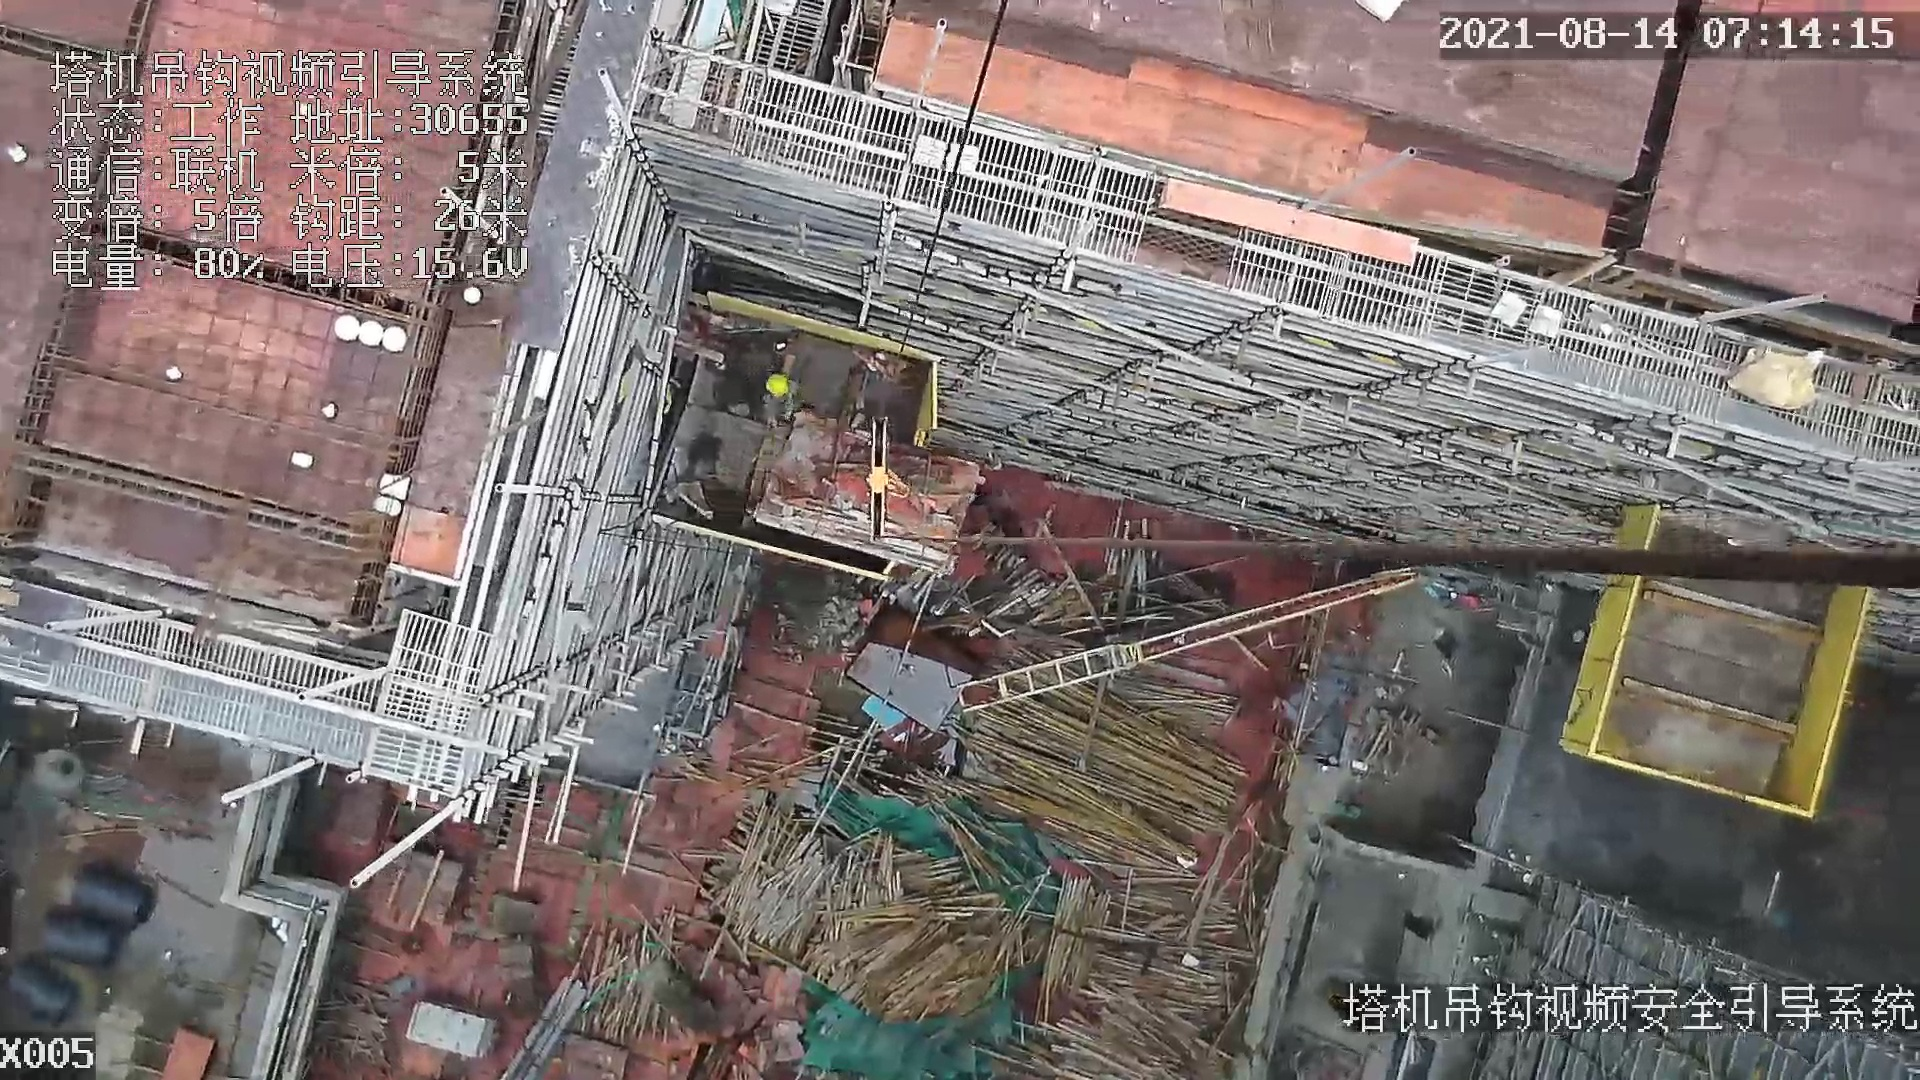helmet: (764, 368, 789, 397)
hook: (859, 410, 906, 545)
person: (703, 328, 791, 412)
